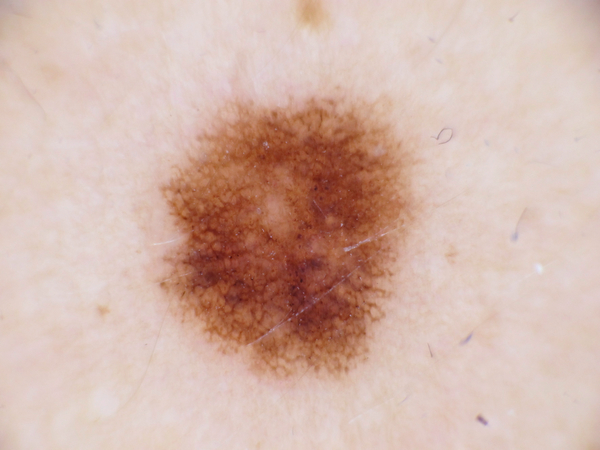Detected Lesion: (151, 84, 422, 379)
